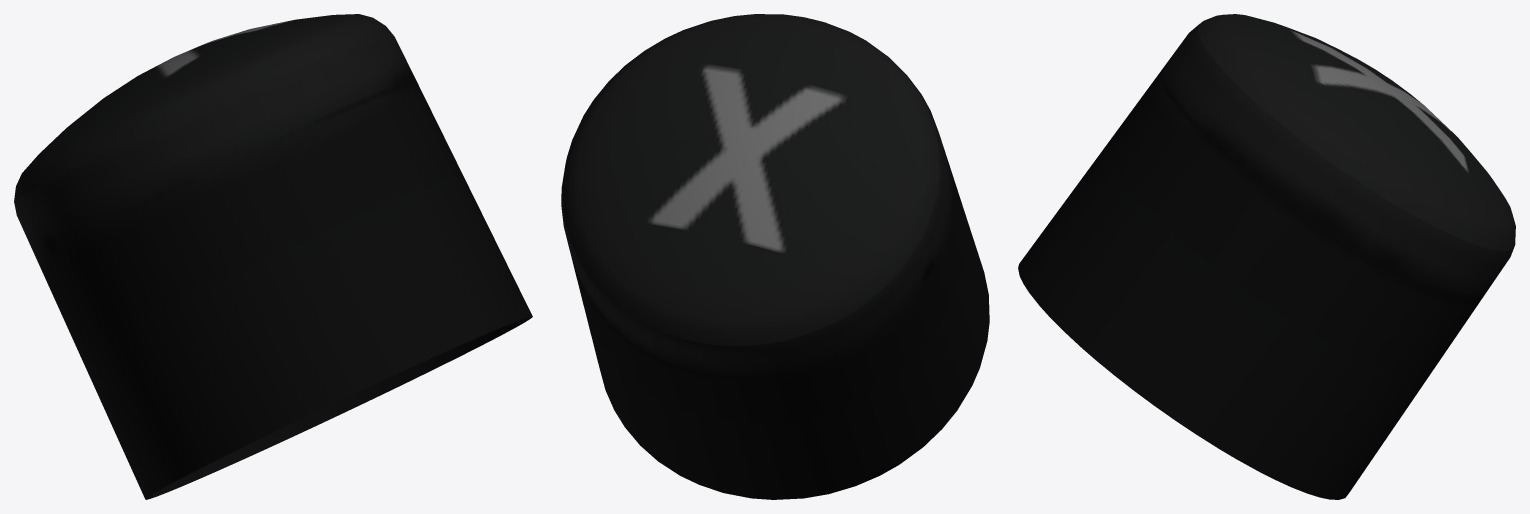
Rendered from frame_controller_right_x_button.obj.
3 renders of one model, left to right at view 1: azimuth 30°, elevation 25°; view 2: azimuth 150°, elevation 25°; view 3: azimuth 270°, elevation 25°, orthographic. The views are drawn at different scales.
Visible parts, largest first — view 1: frame_controller_right_x_button; view 2: frame_controller_right_x_button; view 3: frame_controller_right_x_button.
Boxes of the visible parts, x1=… form: frame_controller_right_x_button: x1=14, y1=14, x2=532, y2=499; frame_controller_right_x_button: x1=561, y1=14, x2=989, y2=499; frame_controller_right_x_button: x1=1018, y1=14, x2=1515, y2=499.
Size of the model in its own units: 0.01 by 0.0111 by 0.0114.
Materials: 1 (1 with a texture image).
